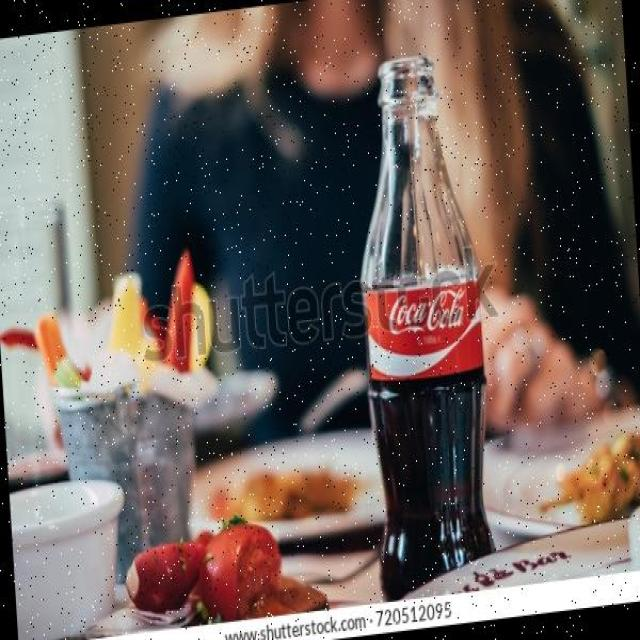coca-cola: (344, 40, 504, 612)
